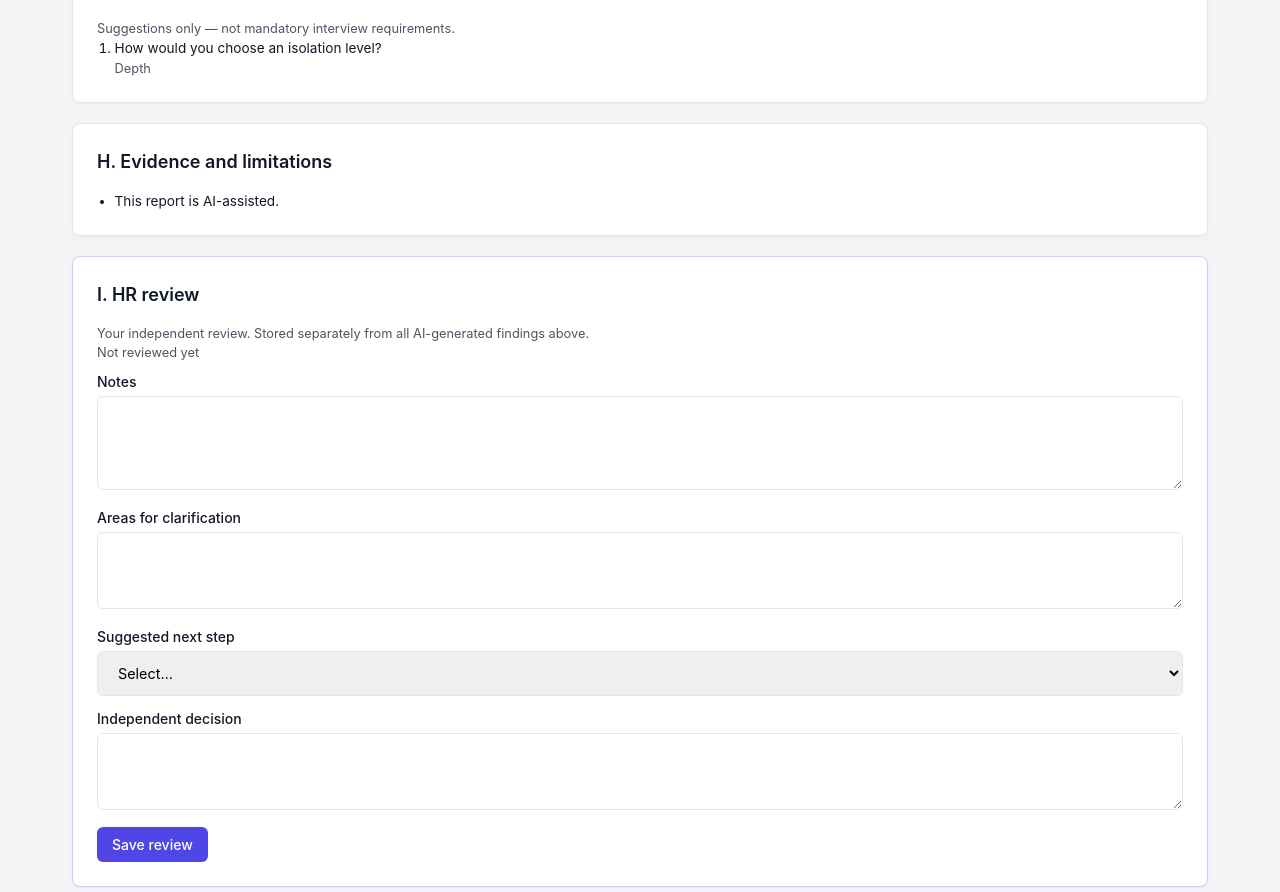
Test: InterviewReportPage › saves the HR review separately with the report version
The image size is (1280, 892).
(page scrolled)
Expected: the heading "I. HR review" is shown, [97,284,199,305]
Step 1. Type "Strong basics" into the text box labelled "Notes" → (640, 443), box [97,396,1183,490]
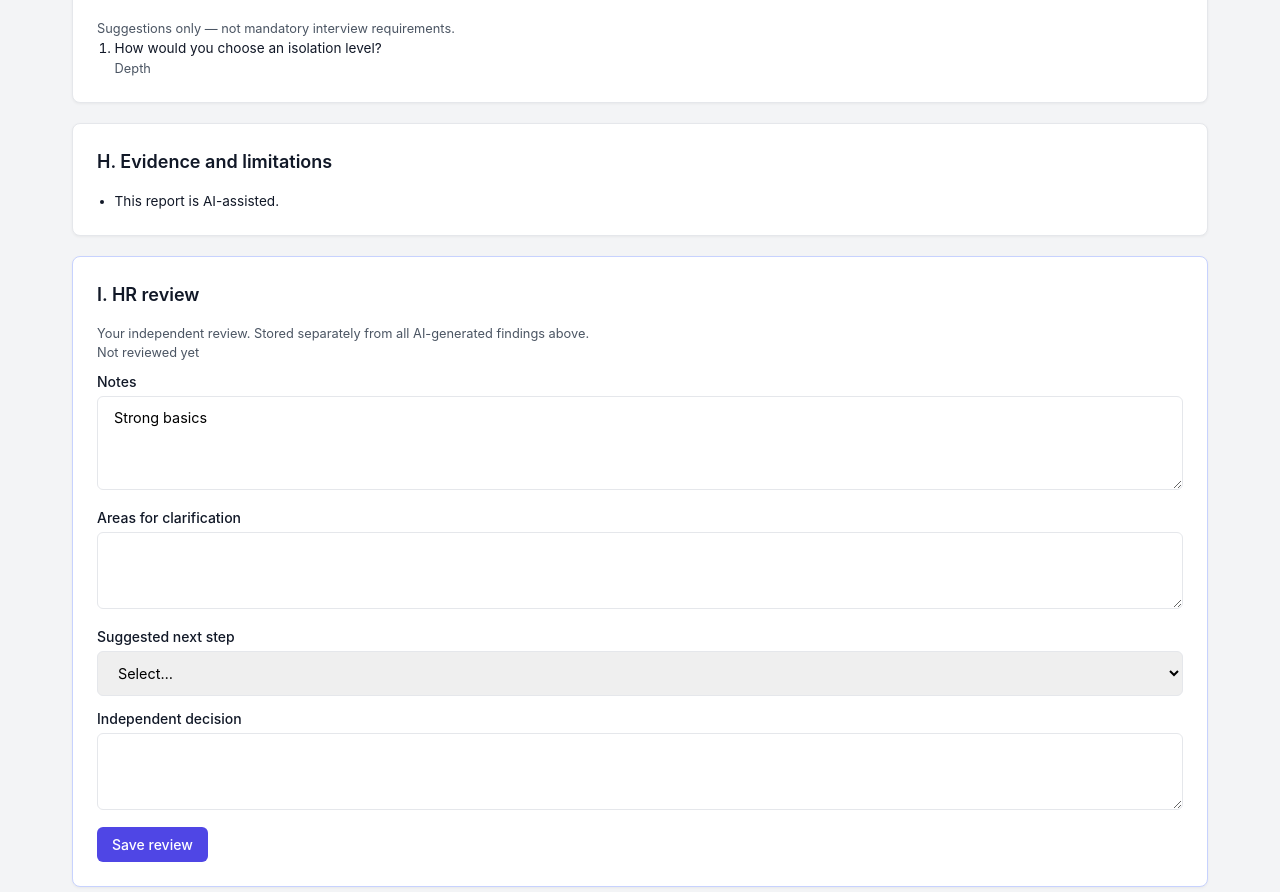
Step 2. Select "Proceed to Round 1" in the dropdown labelled "Suggested next step" → (640, 673), box [97,651,1183,696]
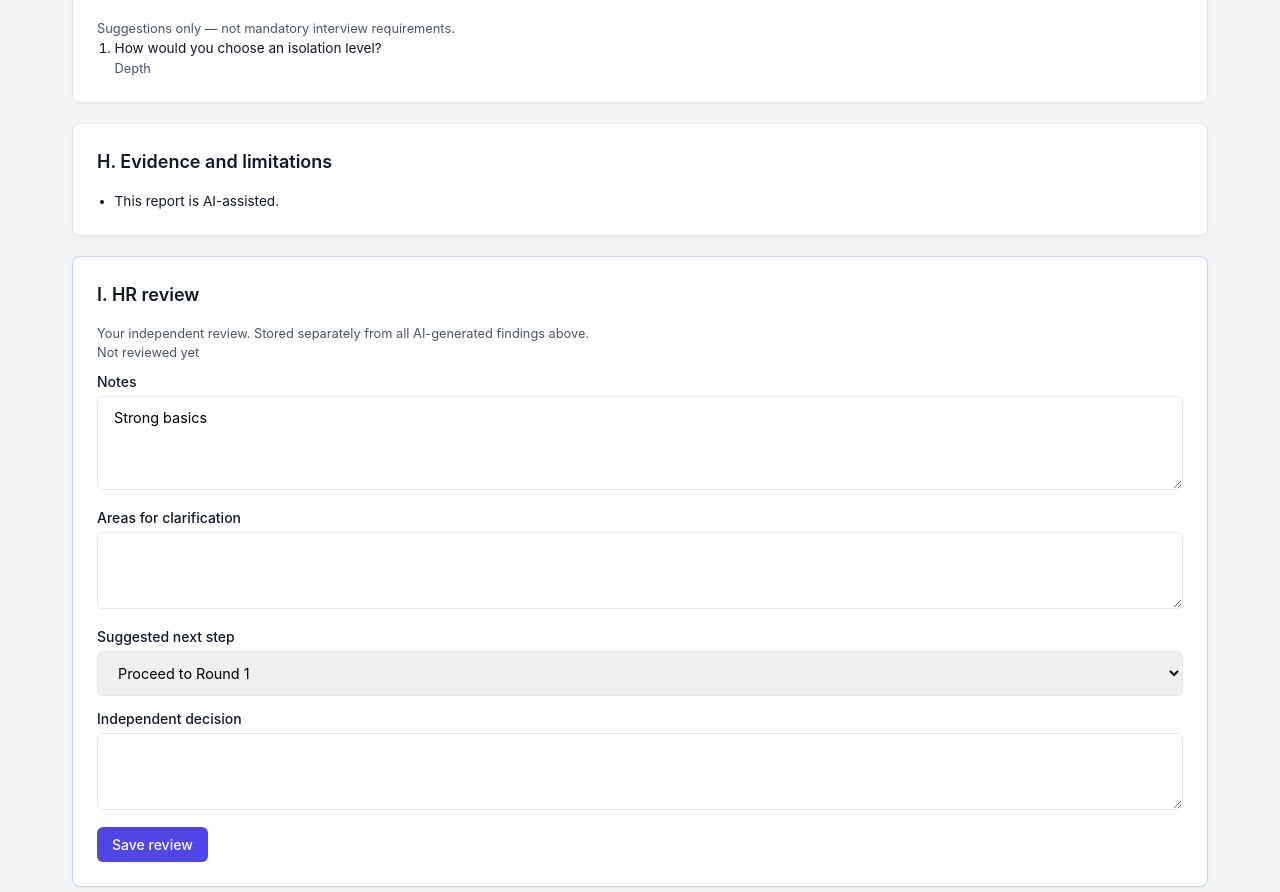
Step 3. Click the button "Save review" → (152, 844), box [97,827,208,862]
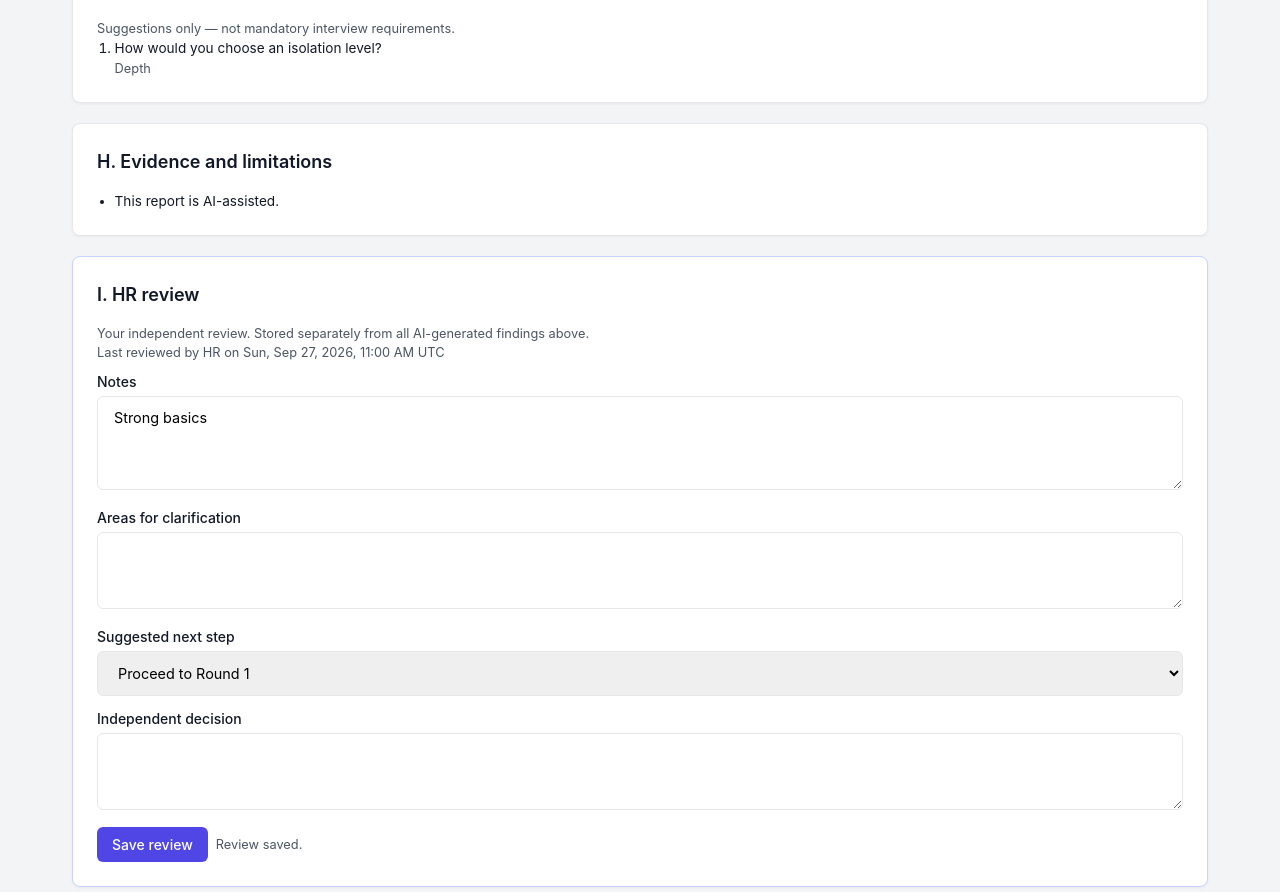
Expected: the text "Review saved." is shown, [216,835,302,854]
